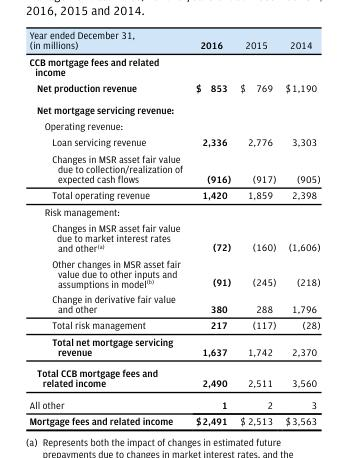table: (28, 29, 319, 426)
table column: (28, 29, 188, 426), (188, 29, 234, 426), (234, 29, 280, 426), (280, 29, 319, 426)
table column header: (28, 29, 319, 53)
table projected row header: (28, 53, 319, 79), (28, 98, 319, 117), (28, 117, 319, 133), (28, 203, 319, 219)
table row: (28, 150, 319, 186), (28, 219, 319, 255), (28, 255, 319, 290), (28, 362, 319, 393), (28, 333, 319, 362), (28, 53, 319, 79), (28, 290, 319, 316), (28, 29, 319, 53), (28, 79, 319, 98), (28, 98, 319, 117), (28, 393, 319, 412), (28, 133, 319, 150), (28, 186, 319, 203), (28, 316, 319, 333), (28, 117, 319, 133), (28, 203, 319, 219), (28, 412, 319, 426)
